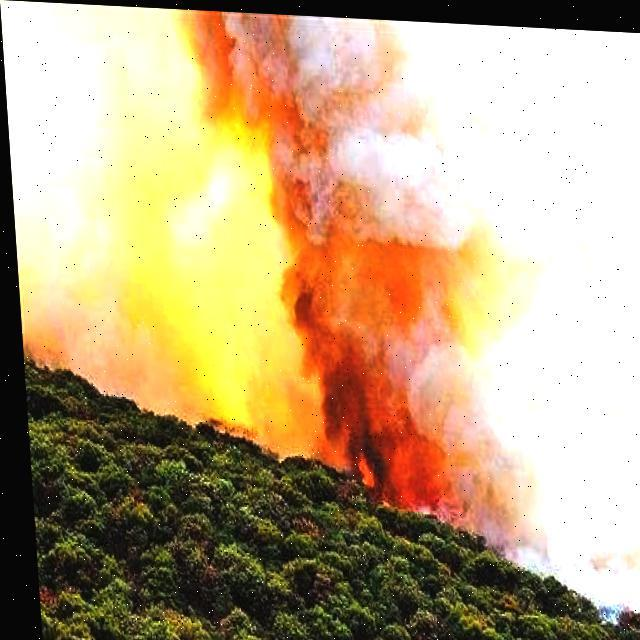Fire: (142, 135, 446, 524)
